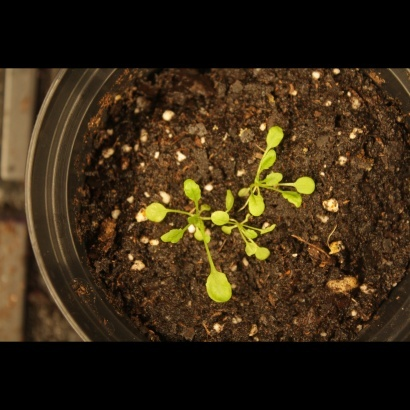leaf: (200, 269, 242, 306), (174, 176, 211, 205), (141, 201, 173, 228), (263, 119, 291, 147), (292, 173, 322, 198), (160, 225, 186, 250), (256, 149, 280, 176), (220, 188, 243, 214), (247, 193, 270, 219), (211, 207, 234, 230), (255, 242, 278, 265), (238, 240, 261, 263), (238, 223, 261, 246), (260, 219, 283, 242), (262, 168, 285, 191)
